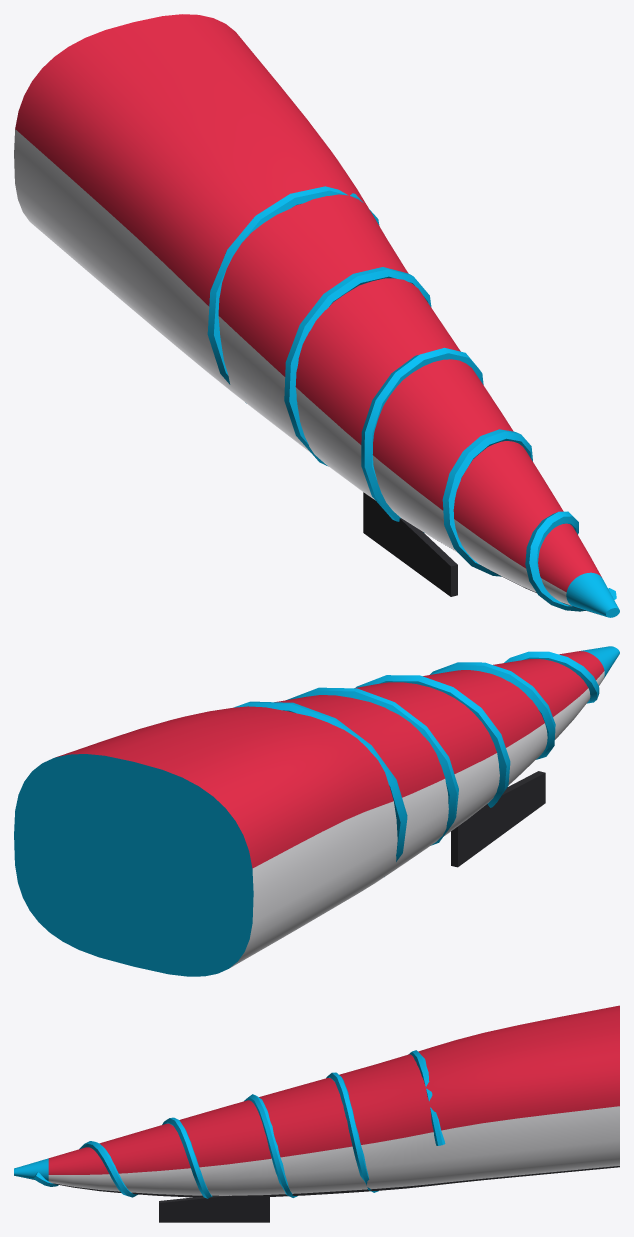
Rendered from drill.glb.
The picture shows the model from 3 angles, top to bottom: view 1: azimuth 30°, elevation 25°; view 2: azimuth 150°, elevation 25°; view 3: azimuth 270°, elevation 25°; orthographic projection. The views are drawn at different scales.
Visible parts, largest first — view 1: Nose_drill; view 2: Nose_drill; view 3: Nose_drill.
Part boxes in pixels (x1,y1,x2,y2): Nose_drill: (14,14,619,617); Nose_drill: (14,646,619,976); Nose_drill: (14,1005,619,1222).
Bounding box in the file's own units: 0.41 × 0.485 × 1.42.
